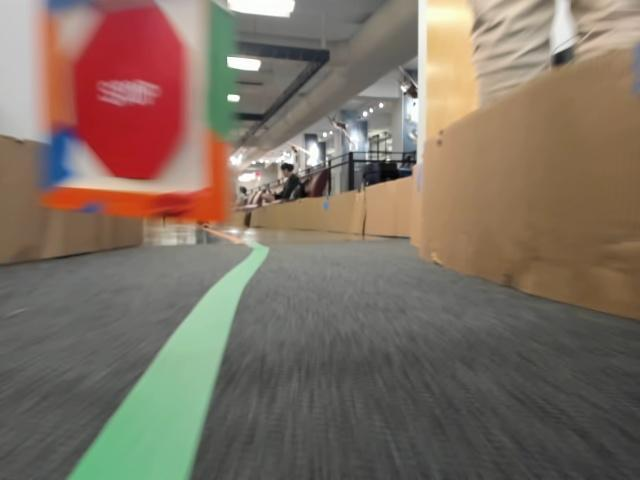Stop: (70, 6, 185, 179)
